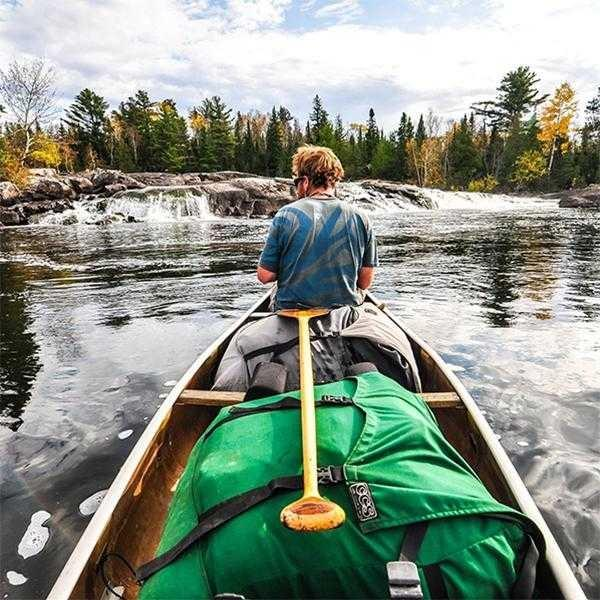kayak: (77, 298, 570, 597)
